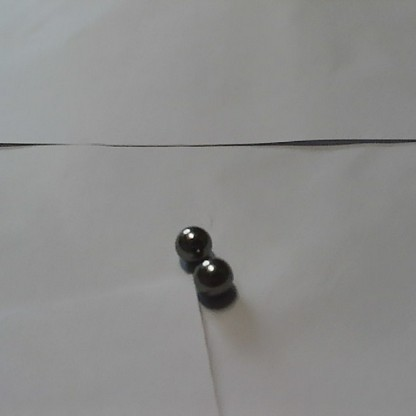ironball: (173, 221, 212, 265), (195, 257, 234, 298)
